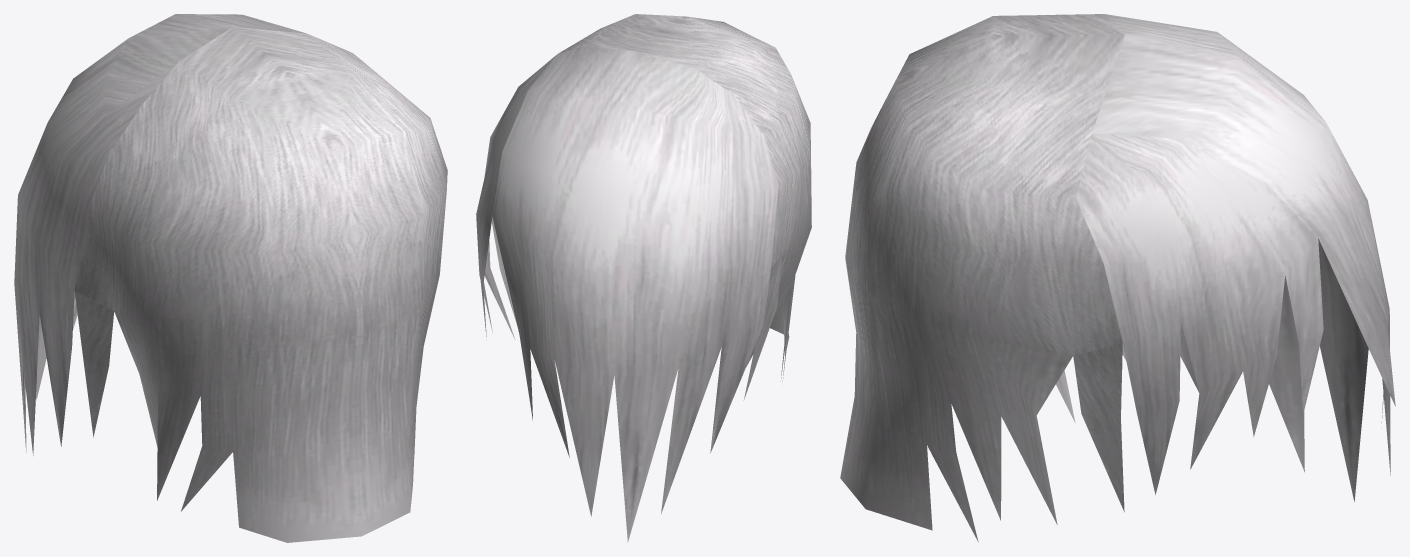
The model's file is Martial arts male hair 54.glb.
3 views of the same model, side by side, from view 1: azimuth 30°, elevation 25°; view 2: azimuth 150°, elevation 25°; view 3: azimuth 270°, elevation 25° (orthographic). The views are drawn at different scales.
Visible parts, largest first — view 1: 武侠男头发06_0; view 2: 武侠男头发06_0; view 3: 武侠男头发06_0.
Boxes of the visible parts, x1,y1,x2,y2 form: 武侠男头发06_0: (14,14,447,542); 武侠男头发06_0: (476,14,811,542); 武侠男头发06_0: (840,14,1395,542).
Size of the model in its own units: 0.1756 by 0.2543 by 0.2457.
Materials: 1 (1 with a texture image).
